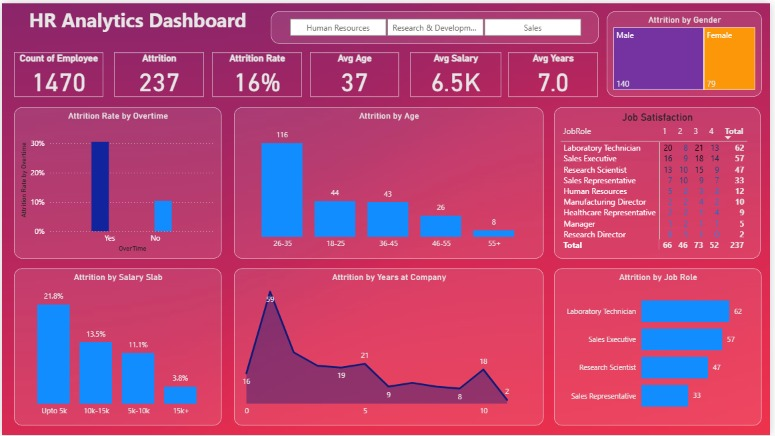

The dashboard page shown, as its layout file describes it:
{"tool":"powerbi","page":{"name":"Page 1","canvas":[1280,720],"ordinal":0},"visuals":[{"type":"card","title":"Count of Employee","fields":{"Values":["CountNonNull(HR_Analytics.EmpID)"]},"box":[20.1,82.3,148.6,74.3],"z":0},{"type":"card","title":"Attrition Rate","fields":{"Values":["HR_Analytics.AttritionRate"]},"box":[350,82,150,74],"z":1000},{"type":"card","title":"Avg Age","fields":{"Values":["Avg(HR_Analytics.Age)"]},"box":[514,82,148,74],"z":2000},{"type":"card","title":"Attrition","fields":{"Values":["Sum(HR_Analytics.AttritionCount)"]},"box":[186,82,150,74],"z":3000},{"type":"card","title":"Avg Years","fields":{"Values":["Avg(HR_Analytics.YearsAtCompany)"]},"box":[844,82,150,74],"z":4000},{"type":"card","title":"Avg Salary","fields":{"Values":["Avg(HR_Analytics.MonthlyIncome)"]},"box":[680,82,152,74],"z":5000},{"type":"clusteredColumnChart","title":"Attrition Rate by Overtime","fields":{"Category":["HR_Analytics.OverTime"],"Series":["HR_Analytics.OverTime"],"Y":["HR_Analytics.Attrition Rate by Overtime"]},"box":[20,174,346,252],"z":6000},{"type":"columnChart","title":"Attrition by Age","fields":{"Category":["HR_Analytics.AgeGroup"],"Y":["Sum(HR_Analytics.AttritionCount)"]},"box":[386,174,516,252],"z":7000},{"type":"pivotTable","title":"Job Satisfaction","fields":{"Columns":["HR_Analytics.JobSatisfaction"],"Rows":["HR_Analytics.JobRole"],"Values":["Sum(HR_Analytics.AttritionCount)"]},"box":[920,174,344,252],"z":8000},{"type":"columnChart","title":"Attrition by Salary Slab","fields":{"Category":["HR_Analytics.SalarySlab"],"Y":["HR_Analytics.Attrition Rate by Overtime"]},"box":[20,442,346,262],"z":9000},{"type":"clusteredBarChart","title":"Attrition by Job Role","fields":{"Category":["HR_Analytics.JobRole"],"Y":["Sum(HR_Analytics.AttritionCount)"]},"box":[920,442,346,262],"z":10000},{"type":"areaChart","title":"Attrition by Years at Company","fields":{"Category":["HR_Analytics.YearsAtCompany"],"Y":["Sum(HR_Analytics.AttritionCount)"]},"box":[386,442,516,262],"z":11000},{"type":"treemap","title":"Attrition by Gender","fields":{"Group":["HR_Analytics.Gender"],"Values":["Sum(HR_Analytics.AttritionCount)"]},"box":[1008,14,258,142],"z":12000},{"type":"slicer","fields":{"Values":["HR_Analytics.Department"]},"box":[448,14,546,54],"z":13000},{"type":"textbox","box":[0,0,480,62],"z":14000}]}

Visuals, with their boxes in screenshot pixels (x1, y1, x2, y2), scaled from the page's 1280x720 canvas onto the 775x436 screenshot:
"Count of Employee" card: 12:50:102:95
"Attrition Rate" card: 212:50:303:94
"Avg Age" card: 311:50:401:94
"Attrition" card: 113:50:203:94
"Avg Years" card: 511:50:602:94
"Avg Salary" card: 412:50:504:94
"Attrition Rate by Overtime" clusteredColumnChart: 12:105:222:258
"Attrition by Age" columnChart: 234:105:546:258
"Job Satisfaction" pivotTable: 557:105:765:258
"Attrition by Salary Slab" columnChart: 12:268:222:426
"Attrition by Job Role" clusteredBarChart: 557:268:767:426
"Attrition by Years at Company" areaChart: 234:268:546:426
"Attrition by Gender" treemap: 610:8:767:94
slicer - HR_Analytics.Department: 271:8:602:41
textbox: 0:0:291:38
